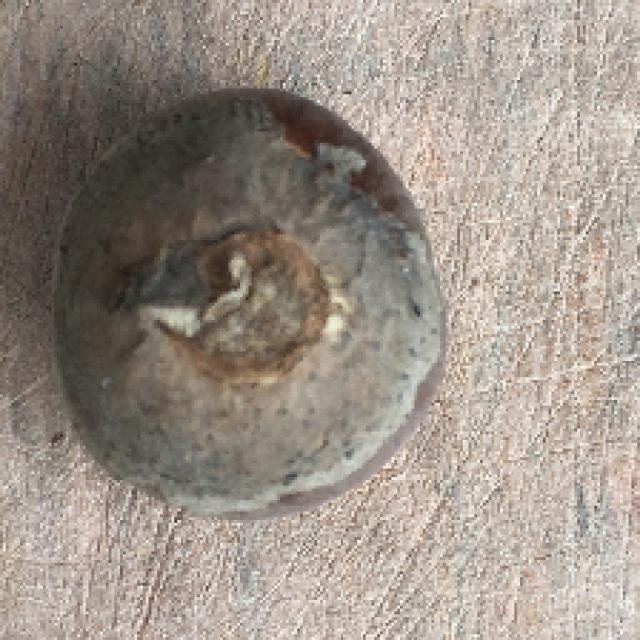DamagedHazelnut: (47, 89, 445, 518)
